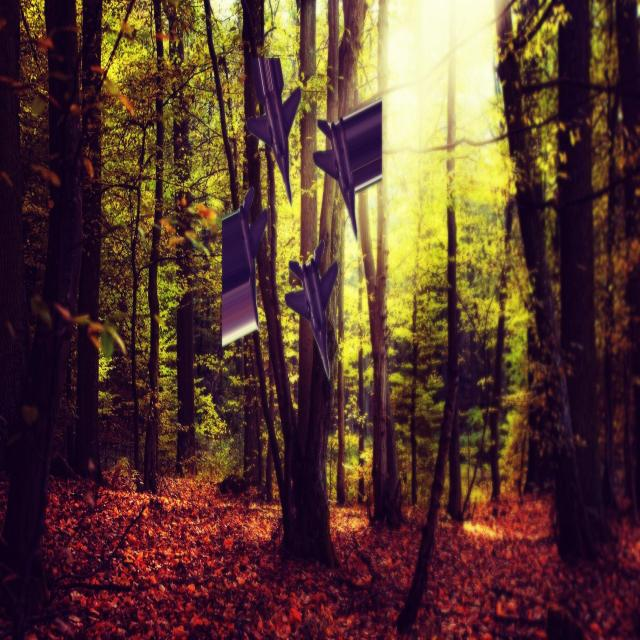airplane: (312, 98, 383, 239), (245, 55, 301, 205), (220, 186, 268, 347), (284, 239, 338, 380)
